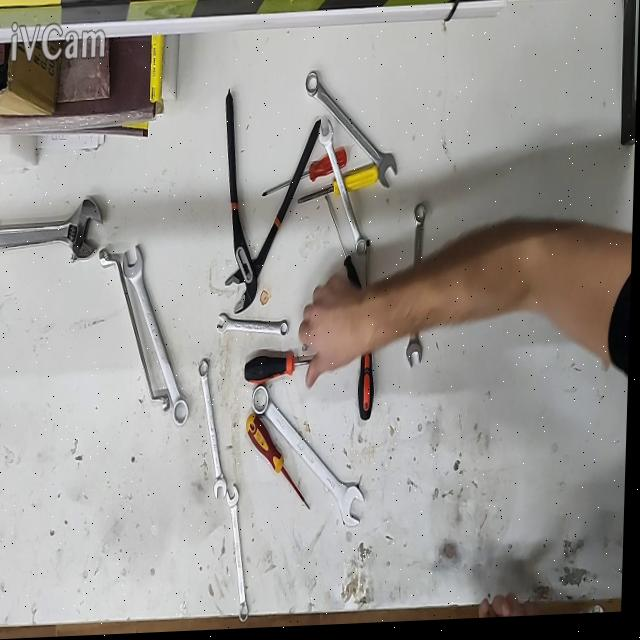Screwdriver: (249, 416, 313, 514), (263, 153, 348, 199), (326, 197, 365, 293), (299, 166, 380, 207), (247, 356, 314, 386), (361, 355, 376, 424)
